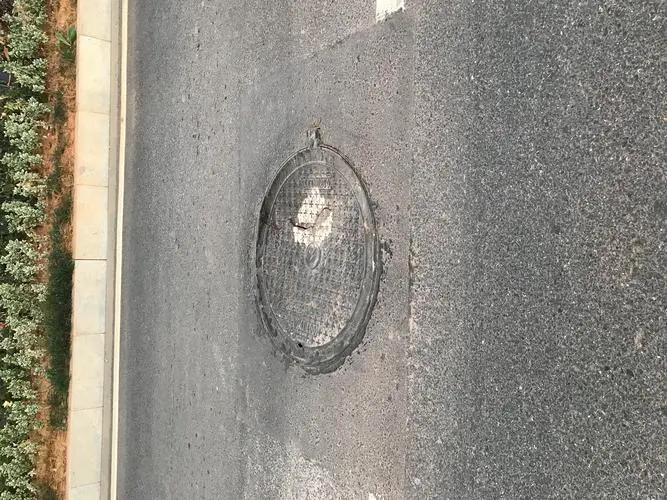wellcover: (228, 128, 429, 398)
